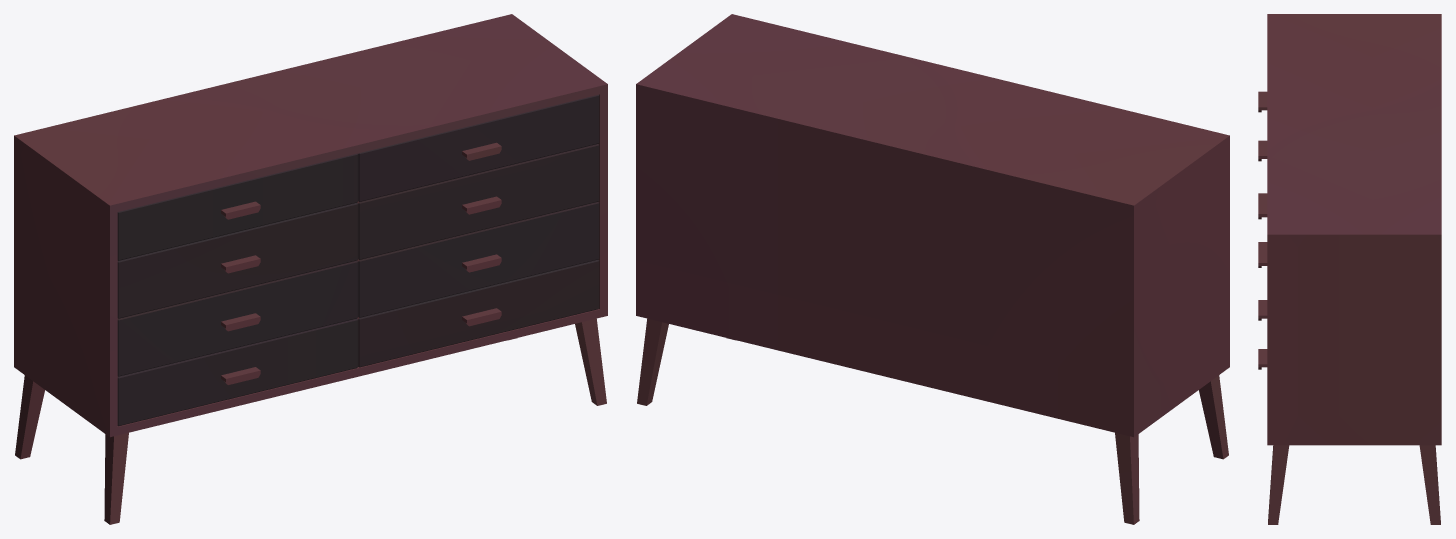
Rendered from cabinet1.glb.
3 views of the same model, side by side, from view 1: azimuth 30°, elevation 25°; view 2: azimuth 150°, elevation 25°; view 3: azimuth 270°, elevation 25° (orthographic). The views are drawn at different scales.
Bounding box in the file's own units: 1.8 × 1.1 × 0.6307.
1 material, 1 textured.
